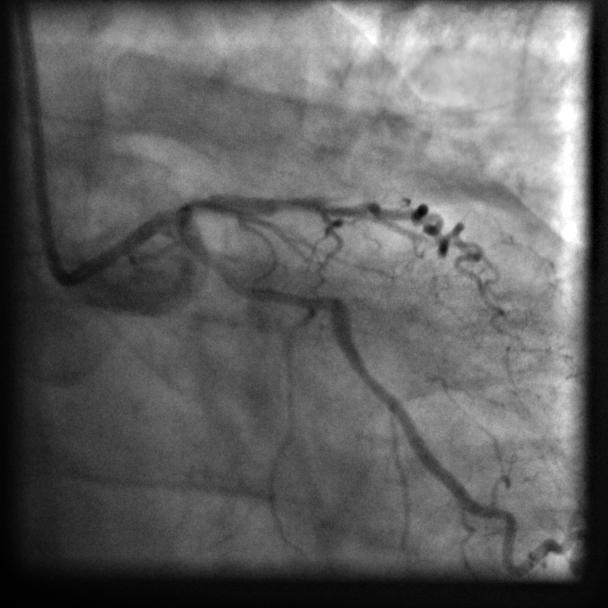Stenosis: (244, 276, 329, 315)
